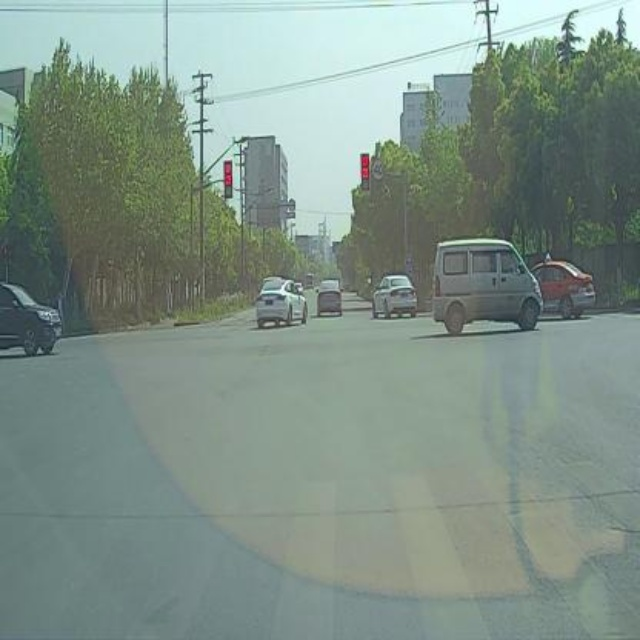Đèn đỏ: (360, 152, 369, 195), (224, 159, 233, 200)
